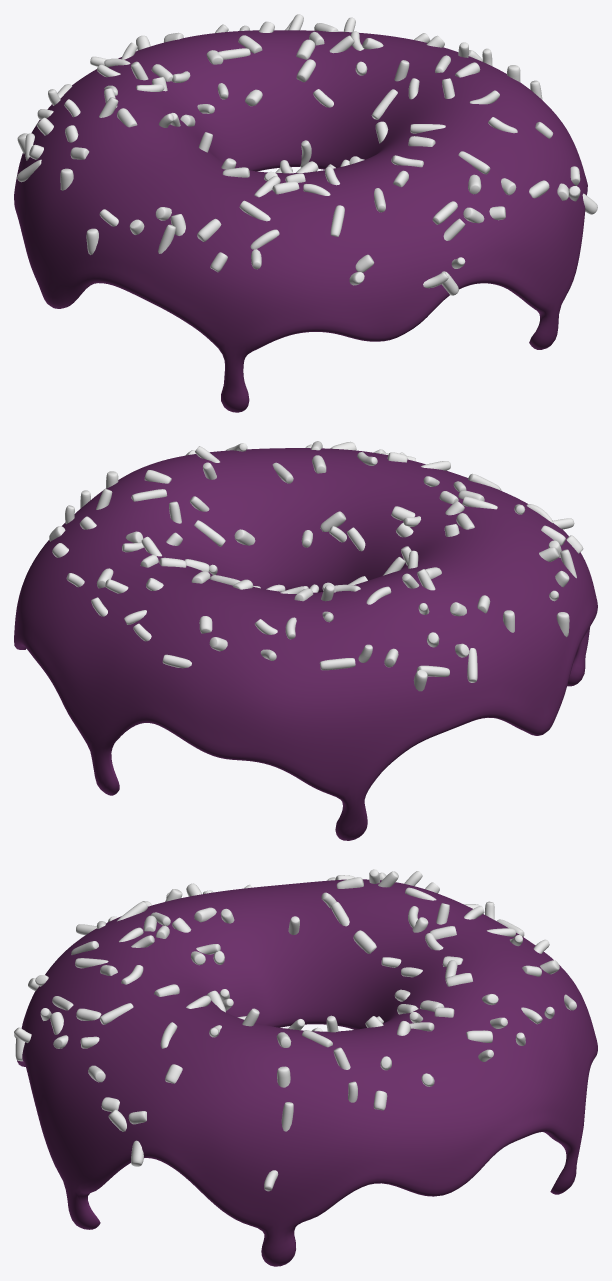
File: SprinklesGlaze.fbx
3 renders of one model, top to bottom at view 1: azimuth 30°, elevation 25°; view 2: azimuth 150°, elevation 25°; view 3: azimuth 270°, elevation 25°, orthographic.
Parts seen in each view (by area): view 1: Icing.001; view 2: Icing.001; view 3: Icing.001.
Boxes of the visible parts, bbox=[...] form: Icing.001: bbox=[14, 14, 597, 412]; Icing.001: bbox=[14, 441, 597, 840]; Icing.001: bbox=[14, 869, 597, 1266].
Bounding box in the file's own units: 0.1296 × 0.0557 × 0.1287.
